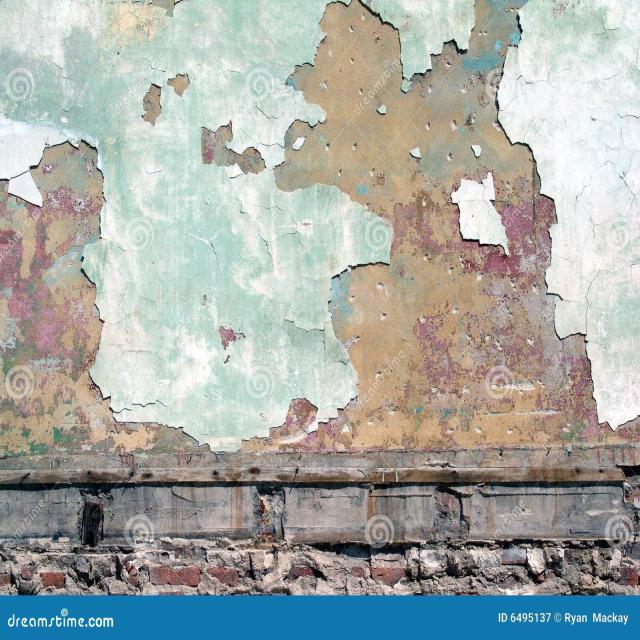paint-peeling: (140, 3, 640, 477), (1, 126, 125, 457), (132, 56, 202, 163), (189, 118, 277, 186)
